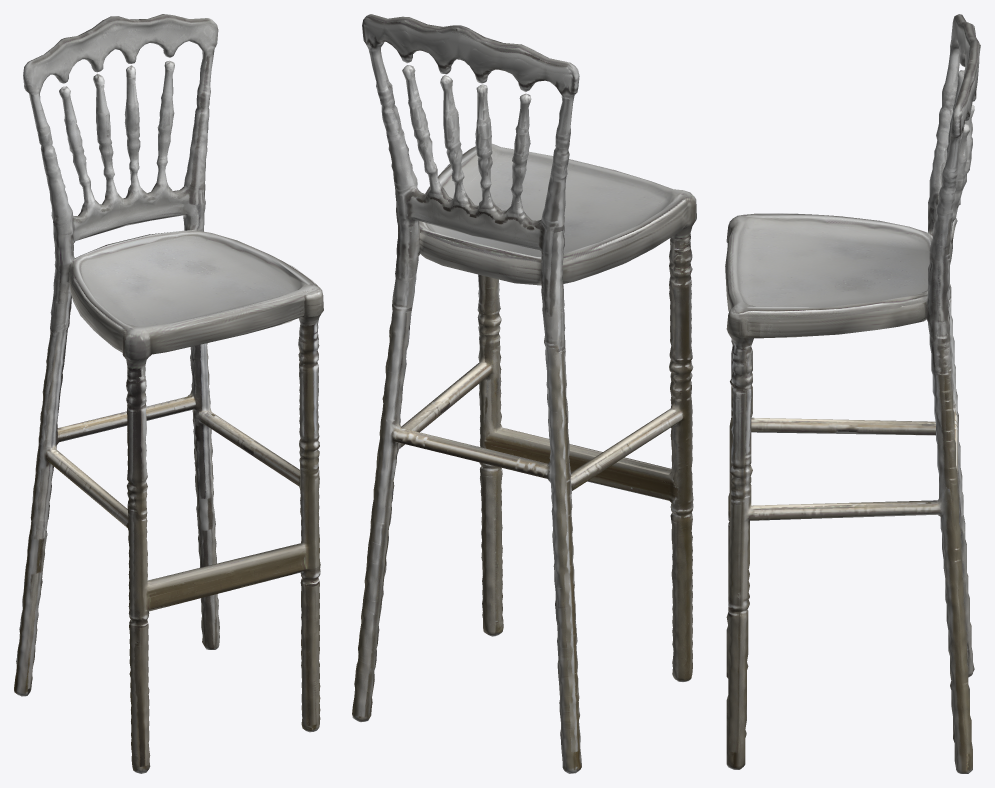
File: NAPOLEON_Stool_Clear_cocktail table_translucent0403042039_texture.glb
The picture shows the model from 3 angles, left to right: view 1: azimuth 30°, elevation 25°; view 2: azimuth 150°, elevation 25°; view 3: azimuth 270°, elevation 25°; orthographic projection. The views are drawn at different scales.
Parts seen in each view (by area): view 1: Mesh_0.001; view 2: Mesh_0.001; view 3: Mesh_0.001.
Part boxes in pixels (x1=…): Mesh_0.001: x1=14, y1=14, x2=323, y2=773; Mesh_0.001: x1=352, y1=14, x2=696, y2=773; Mesh_0.001: x1=725, y1=14, x2=980, y2=773.
Size of the model in its own units: 0.3483 by 1.07 by 0.3614.
1 material, 1 textured.
